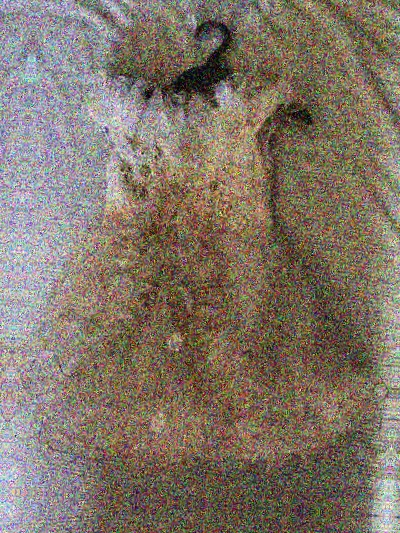Dress: (13, 15, 400, 503), (0, 0, 25, 477), (0, 506, 378, 533), (397, 40, 400, 528), (364, 532, 400, 533)
